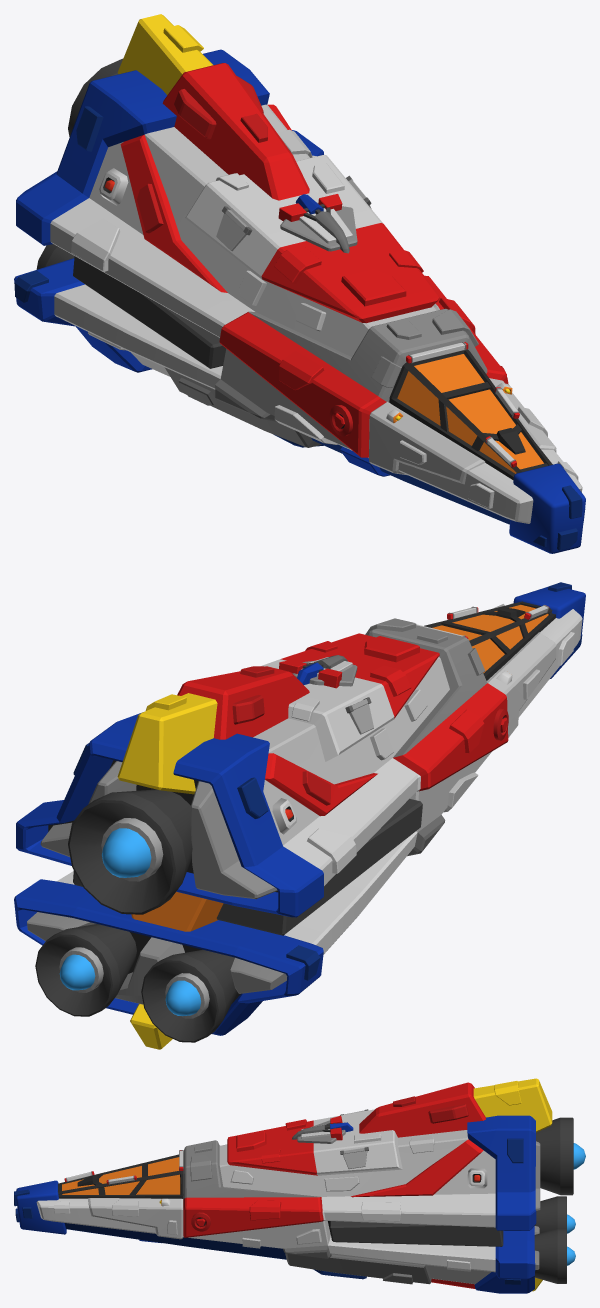
File: Body10.fbx
3 renders of one model, top to bottom at view 1: azimuth 30°, elevation 25°; view 2: azimuth 150°, elevation 25°; view 3: azimuth 270°, elevation 25°, orthographic. The views are drawn at different scales.
Visible parts, largest first — view 1: Body10; view 2: Body10; view 3: Body10.
Boxes of the visible parts, bbox=[...] form: Body10: bbox=[14, 14, 585, 553]; Body10: bbox=[14, 582, 585, 1049]; Body10: bbox=[14, 1078, 585, 1293].
Bounding box in the file's own units: 490 × 1338 × 537.
